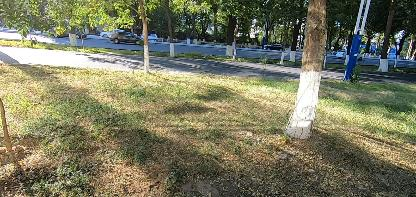car: (109, 30, 146, 47)
tree: (284, 0, 331, 144), (217, 0, 242, 59), (137, 0, 152, 76)
